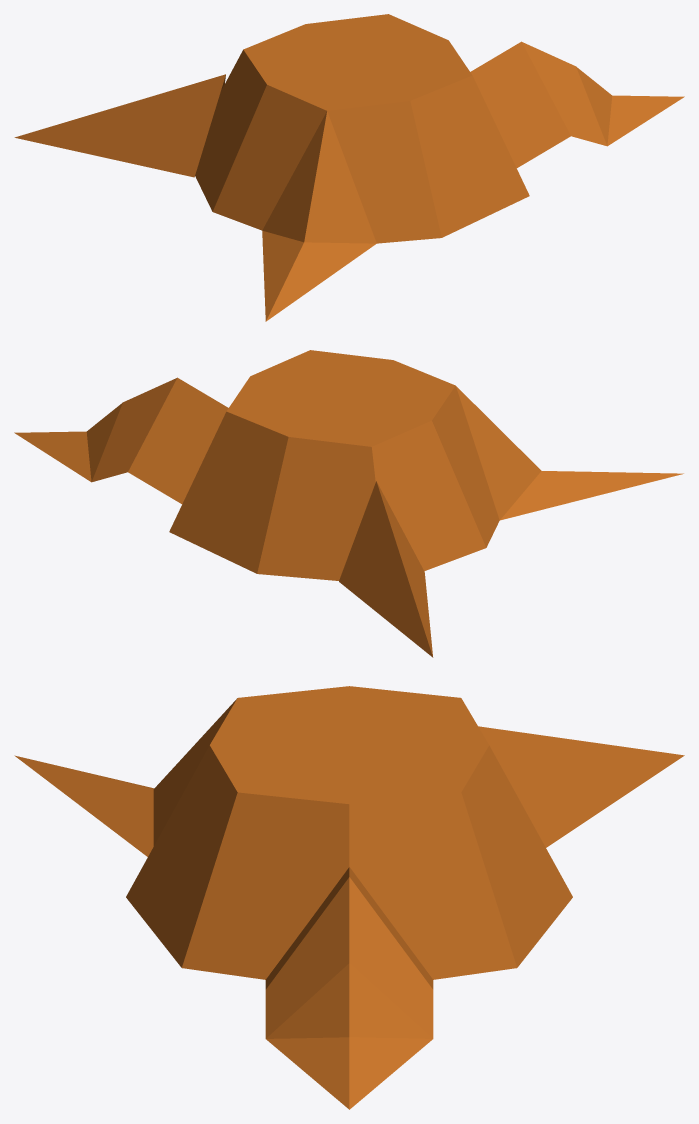
The model's file is oakstump.glb.
3 views of the same model, one above another, from view 1: azimuth 30°, elevation 25°; view 2: azimuth 150°, elevation 25°; view 3: azimuth 270°, elevation 25° (orthographic). The views are drawn at different scales.
Parts seen in each view (by area): view 1: tree; view 2: tree; view 3: tree.
Part boxes in pixels (x1,y1,x2,y2): tree: [14, 14, 684, 321]; tree: [14, 350, 683, 657]; tree: [14, 686, 684, 1109].
Size of the model in its own units: 1.93 by 0.3867 by 1.55.
